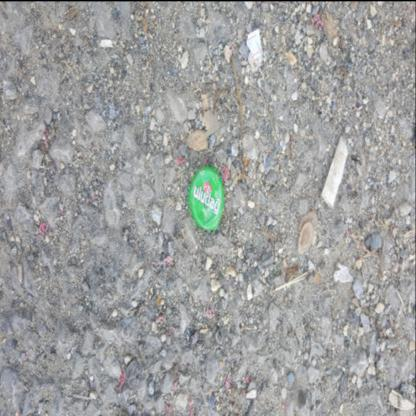Bottle: (189, 164, 225, 230)
Cigarette: (321, 138, 348, 208)
Other plastic: (204, 302, 216, 318), (119, 367, 126, 390), (40, 221, 49, 237), (224, 165, 232, 181), (163, 256, 173, 266), (166, 328, 174, 340), (316, 18, 324, 29), (156, 314, 166, 322), (310, 14, 319, 22), (189, 398, 193, 415), (344, 219, 348, 236), (43, 129, 49, 140), (224, 376, 230, 386), (165, 405, 171, 415), (173, 379, 178, 391), (151, 260, 157, 270), (245, 375, 252, 382), (178, 156, 185, 162), (40, 140, 46, 146), (23, 354, 28, 360), (285, 399, 287, 408), (59, 208, 63, 212), (92, 196, 96, 198), (232, 46, 233, 52)
Unlabeled litter: (247, 28, 263, 58)
